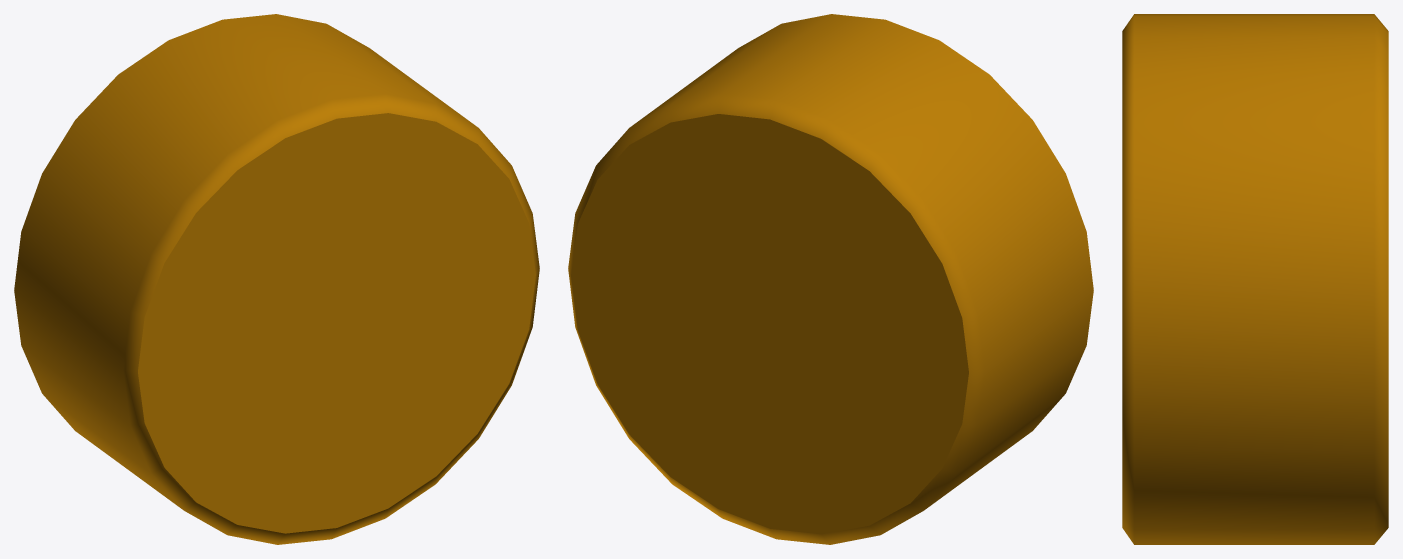
Rendered from rounded.fbx.
The picture shows the model from 3 angles, left to right: view 1: azimuth 30°, elevation 25°; view 2: azimuth 150°, elevation 25°; view 3: azimuth 270°, elevation 25°; orthographic projection. The views are drawn at different scales.
Parts seen in each view (by area): view 1: polySurface3618; view 2: polySurface3618; view 3: polySurface3618.
Boxes of the visible parts, box(x1,y1,x2,y2) form: polySurface3618: box(14, 14, 539, 544); polySurface3618: box(568, 14, 1093, 544); polySurface3618: box(1122, 14, 1388, 544).
Bounding box in the file's own units: 8.3 × 8.37 × 4.17.
